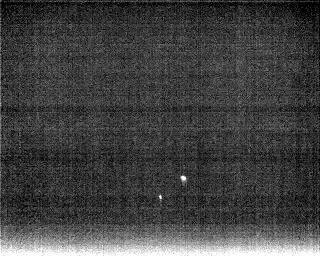BIRD: (178, 172, 189, 187)
